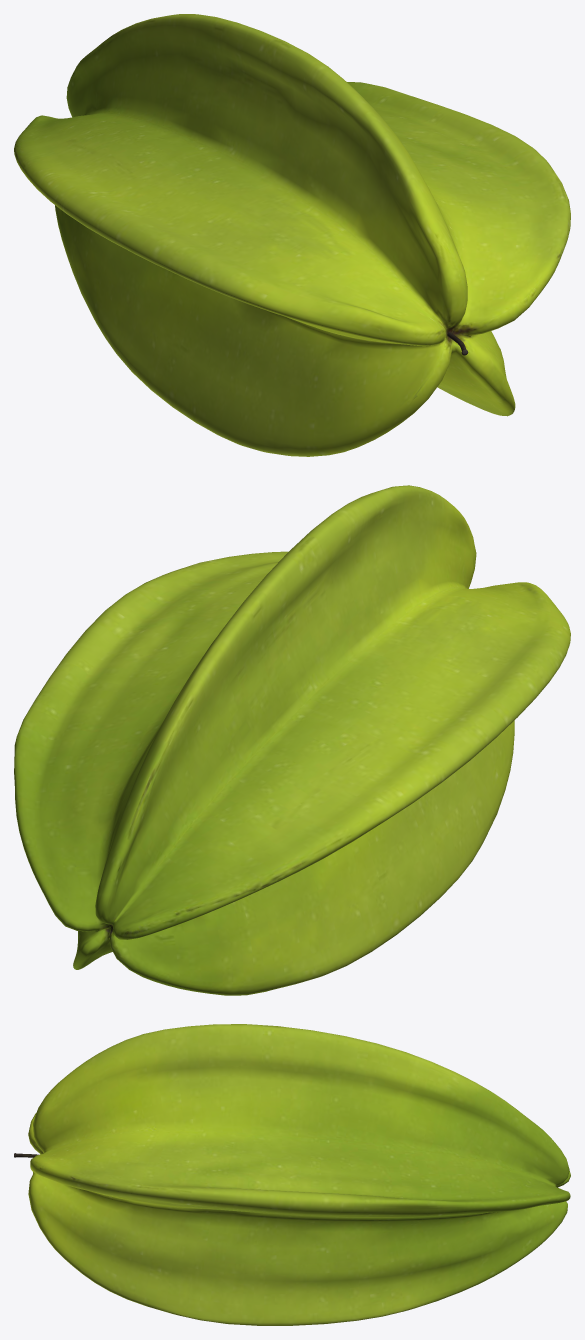
The model's file is Starfruit.fbx.
3 views of the same model, one above another, from view 1: azimuth 30°, elevation 25°; view 2: azimuth 150°, elevation 25°; view 3: azimuth 270°, elevation 25° (orthographic). The views are drawn at different scales.
Visible parts, largest first — view 1: Starfruit; view 2: Starfruit; view 3: Starfruit.
Part boxes in pixels (left/top/right/bottom): Starfruit: left=14, top=14, right=570, bottom=456; Starfruit: left=14, top=485, right=570, bottom=995; Starfruit: left=14, top=1024, right=570, bottom=1325.
Bounding box in the file's own units: 7.06 × 6.08 × 11.9.
